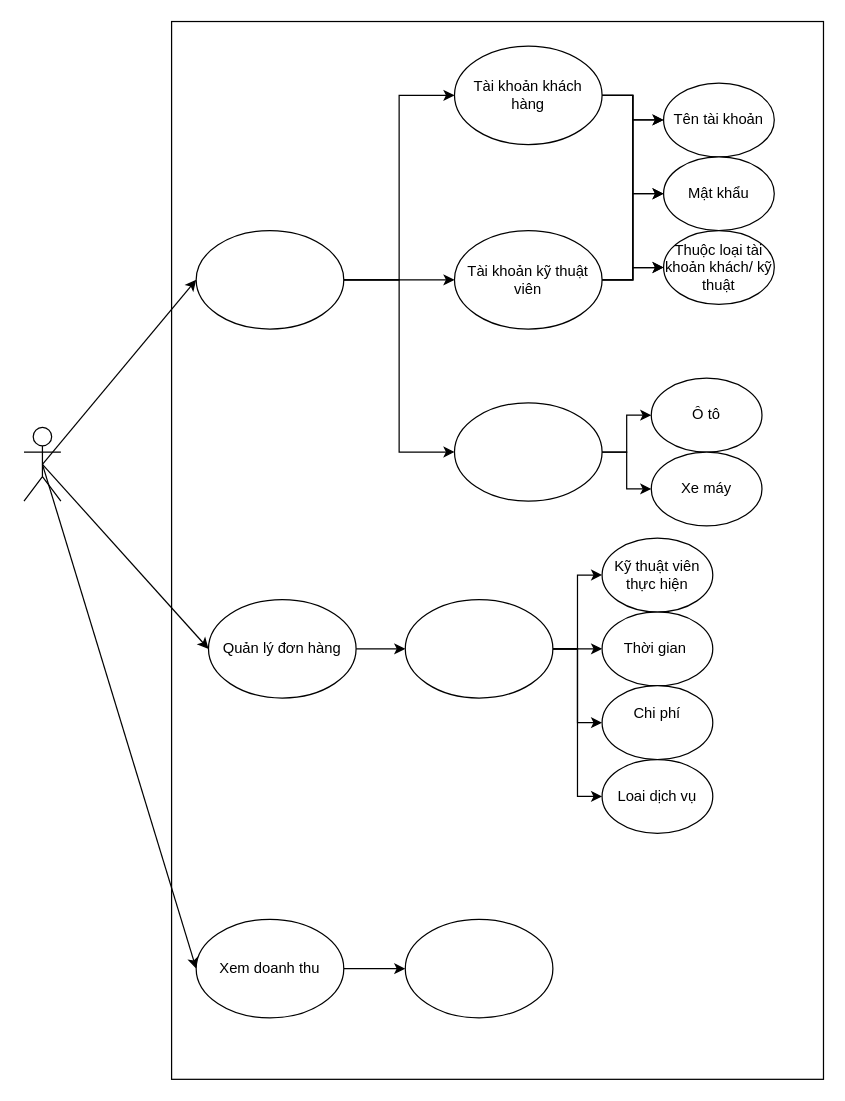
This 845x1101 diagram has some shape labels left out. The box of each missing label's shape, as (x1, y1, x2, y2) in pixels:
Admin: (23, 426, 61, 501)
Biểu đồ doanh thu hằng tháng: (404, 918, 553, 1018)
Quản lý tài khoản: (195, 229, 344, 329)
Vai trò kỹ thuật viên theo chuyên môn: (453, 402, 602, 501)
Xem đơn hàng: (404, 598, 553, 698)
